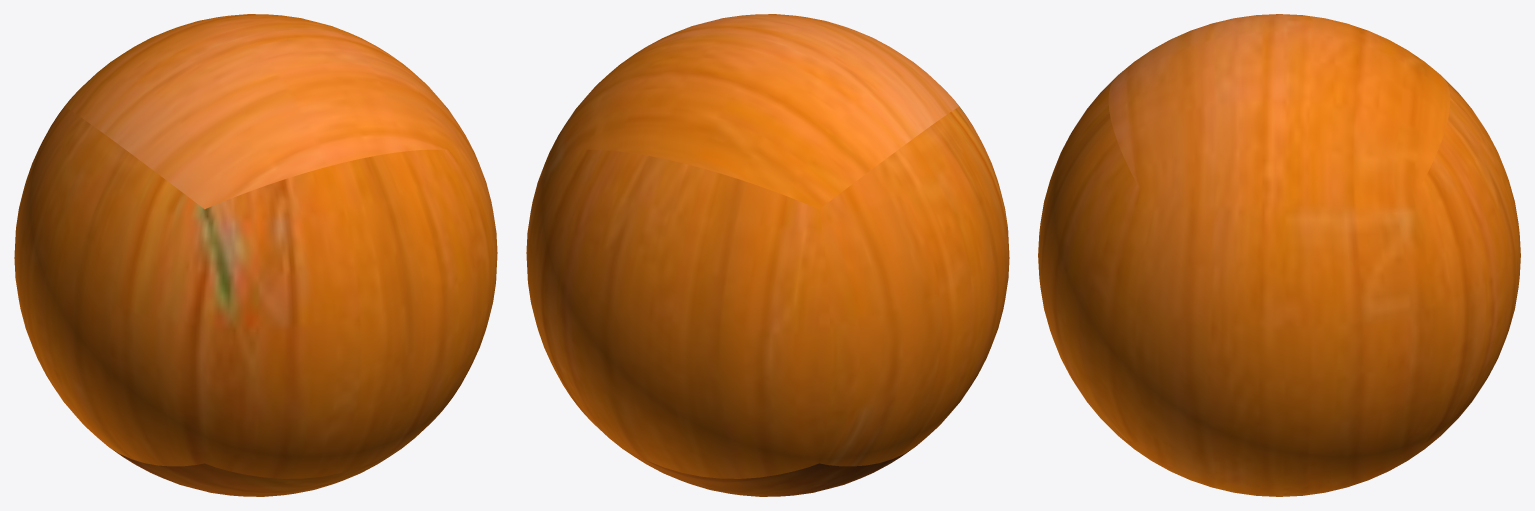
The model's file is pumpkin_sphere.obj.
The picture shows the model from 3 angles, left to right: view 1: azimuth 30°, elevation 25°; view 2: azimuth 150°, elevation 25°; view 3: azimuth 270°, elevation 25°; orthographic projection.
Visible parts, largest first — view 1: wooden_sphere; view 2: wooden_sphere; view 3: wooden_sphere.
Part boxes in pixels (<box>): wooden_sphere: <box>14,14,497,496</box>; wooden_sphere: <box>526,14,1009,496</box>; wooden_sphere: <box>1038,14,1520,496</box>.
Bounding box in the file's own units: 6.97 × 6.97 × 6.97.
Materials: 1 (1 with a texture image).
